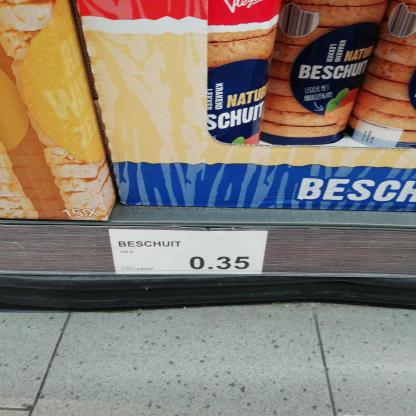prtg: (109, 230, 269, 276)
